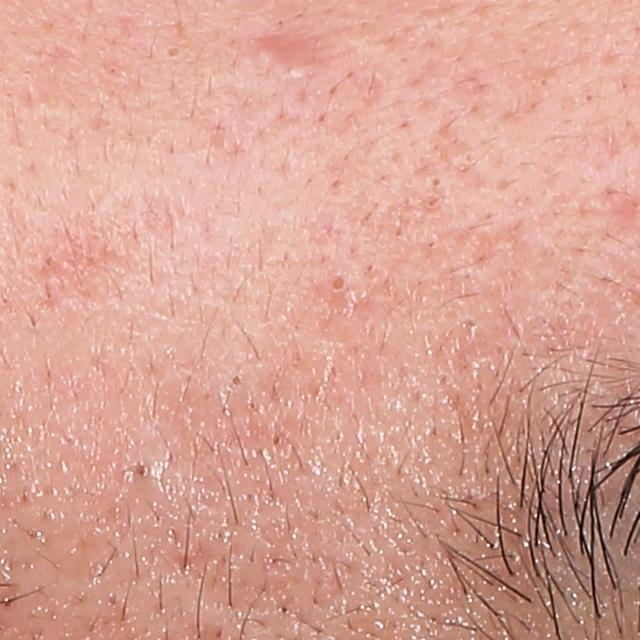comedo: (243, 36, 322, 85), (426, 173, 447, 192)
